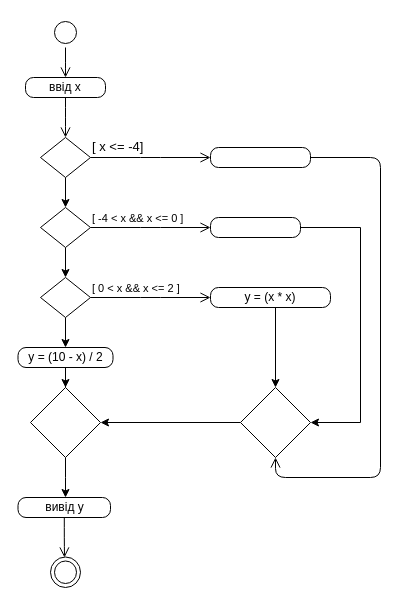
Some shapes in this 408 by 605 pixel diagram are drawn without their labels. Each missing label, with the centre of its shape:
y = -2: (x=260, y=157)
y = x / 4: (x=255, y=227)
